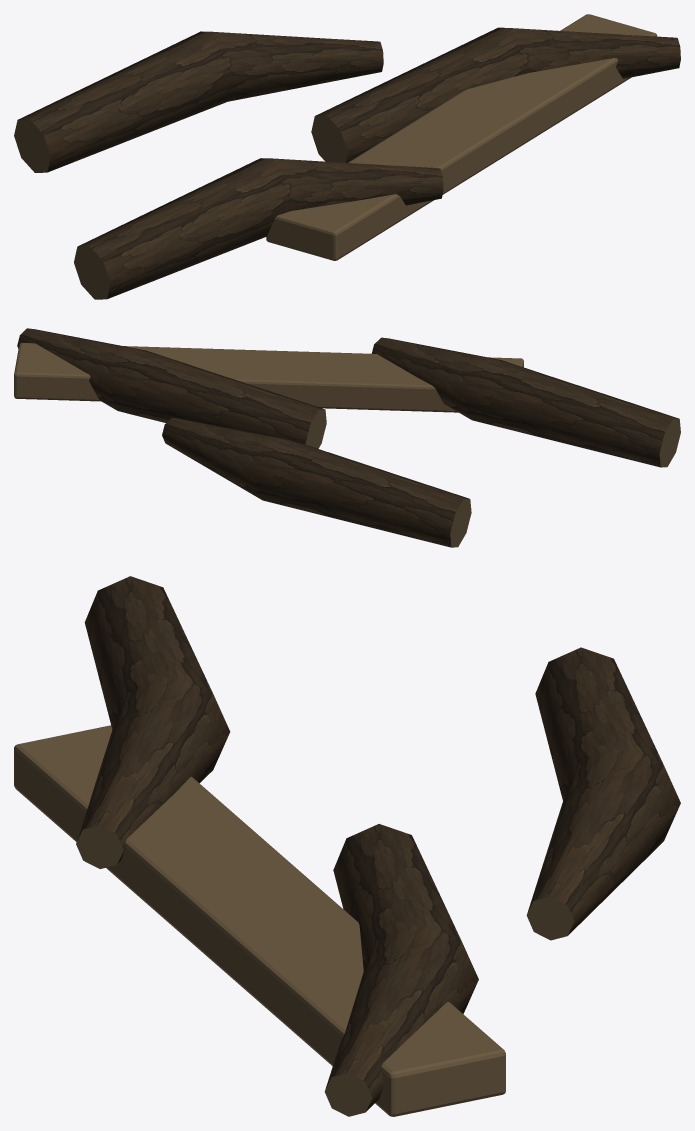
3 views of the same model, one above another, from view 1: azimuth 30°, elevation 25°; view 2: azimuth 150°, elevation 25°; view 3: azimuth 270°, elevation 25° (orthographic). The views are drawn at different scales.
Visible parts, largest first — view 1: Broken drift stick.002, Split weathered slat, Broken drift stick, Broken drift stick.001; view 2: Broken drift stick.002, Broken drift stick, Split weathered slat, Broken drift stick.001; view 3: Split weathered slat, Broken drift stick.002, Broken drift stick, Broken drift stick.001.
Part boxes in pixels (left/top/right/bottom): Broken drift stick.002: left=14, top=31, right=383, bottom=172; Split weathered slat: left=266, top=14, right=657, bottom=260; Broken drift stick: left=74, top=158, right=443, bottom=299; Broken drift stick.001: left=311, top=27, right=680, bottom=162; Broken drift stick.002: left=162, top=417, right=471, bottom=547; Broken drift stick: left=372, top=337, right=680, bottom=467; Split weathered slat: left=14, top=343, right=523, bottom=412; Broken drift stick.001: left=17, top=328, right=326, bottom=448; Split weathered slat: left=14, top=725, right=505, bottom=1116; Broken drift stick.002: left=526, top=647, right=680, bottom=940; Broken drift stick: left=76, top=576, right=230, bottom=868; Broken drift stick.001: left=324, top=824, right=478, bottom=1116.
Bounding box in the file's own units: 3.75 × 0.499 × 2.15.
Materials: 2 (1 with a texture image).
